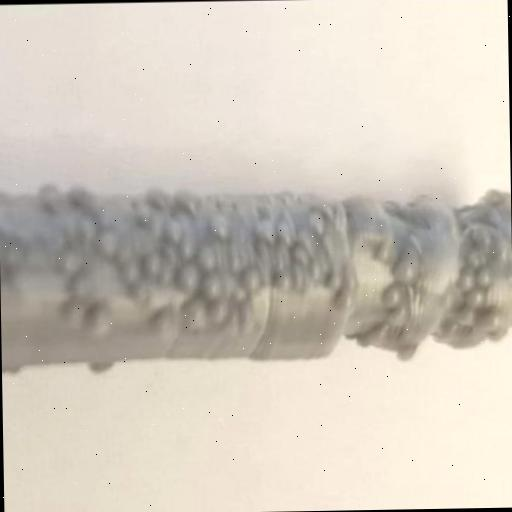blobs: (386, 249, 424, 288), (86, 296, 116, 336), (239, 262, 269, 296), (148, 302, 174, 339), (185, 297, 209, 334), (158, 212, 183, 246), (173, 260, 199, 292), (199, 272, 224, 305), (96, 219, 121, 252), (138, 245, 164, 276), (284, 239, 310, 270), (197, 240, 221, 272), (208, 209, 234, 238), (331, 286, 355, 316), (250, 214, 274, 240), (274, 216, 296, 244), (380, 282, 404, 306), (457, 265, 478, 291), (476, 265, 498, 289), (322, 270, 342, 296), (451, 306, 474, 328), (308, 210, 329, 234), (396, 338, 416, 362), (480, 307, 498, 333), (272, 266, 290, 292), (469, 287, 488, 310), (372, 239, 390, 260), (382, 306, 401, 324)
